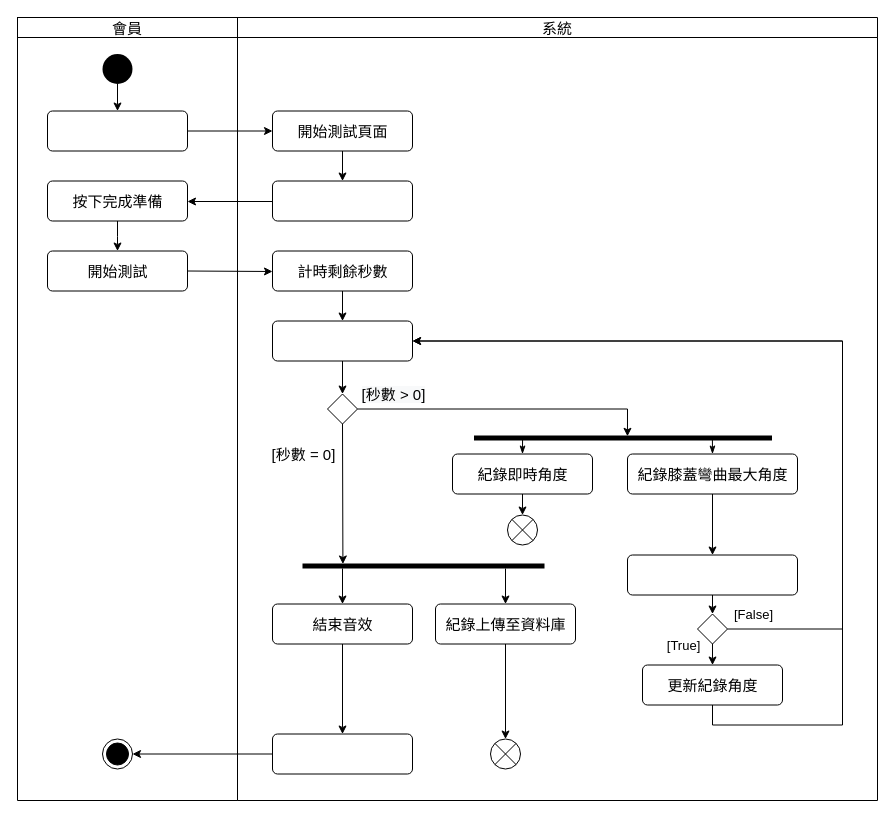
Some shapes in this 895 by 818 pixel diagram are drawn without their labels. The box of each missing label's shape, as (x1, y1, x2, y2) in pixels:
判斷剩餘秒數: (272, 320, 412, 361)
判斷新紀錄值是否>舊紀錄: (626, 554, 798, 595)
指引步驟教學: (272, 180, 412, 221)
測試結果畫面: (272, 733, 412, 774)
開始下肢測試: (46, 110, 188, 151)
